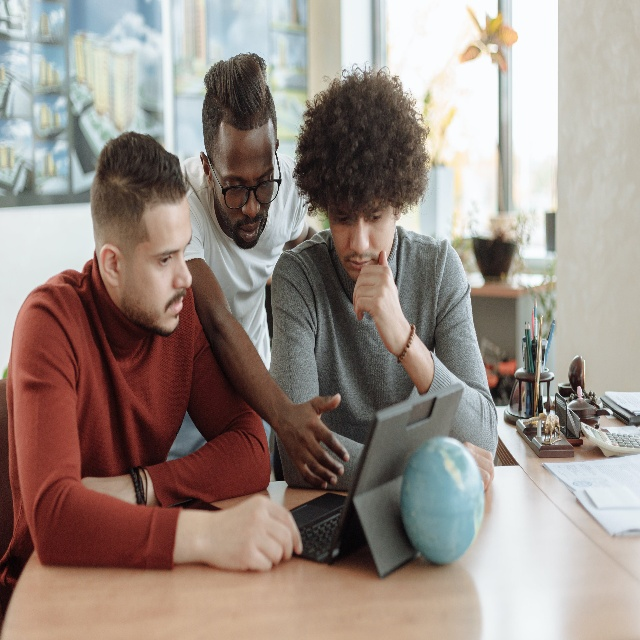Gafas: (205, 150, 282, 211)
Sin_guantes: (208, 494, 305, 572), (351, 247, 410, 359), (290, 389, 351, 491)
